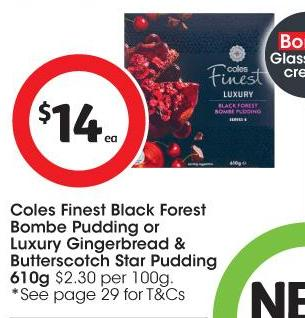description_block: (4, 197, 218, 286)
price_main: (9, 70, 143, 179)
product_image_block: (112, 10, 294, 179)
unit_price_block: (50, 268, 182, 285)
